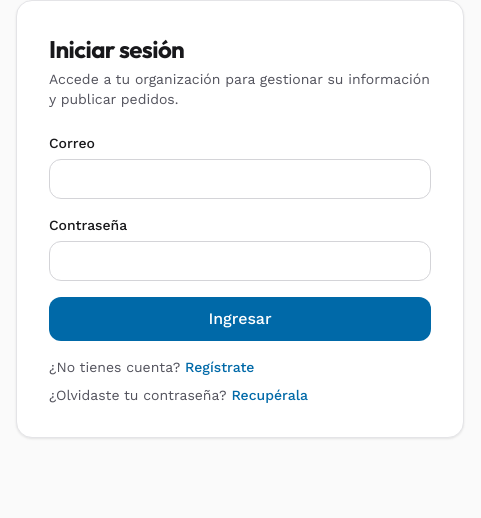
Test: LoginPage › informa el error de credenciales
The width and height of the screenshot is (481, 518).
Type "camila@correo.org" into the field labelled "Correo".
click(240, 179); type("camila@correo.org")  # box 49,159 -> 431,199
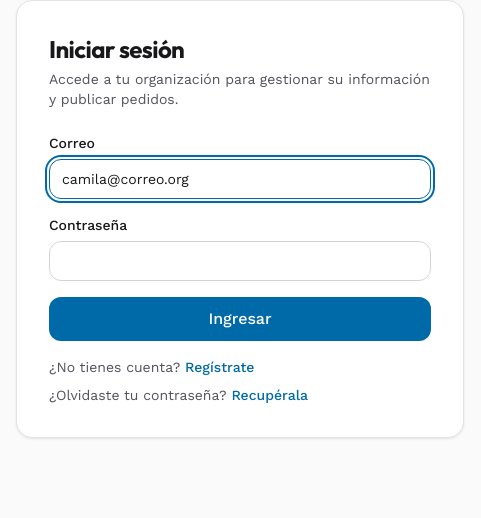
Type "contrasena-segura" into the password field labelled "Contraseña".
click(240, 261); type("contrasena-segura")  # box 49,241 -> 431,281
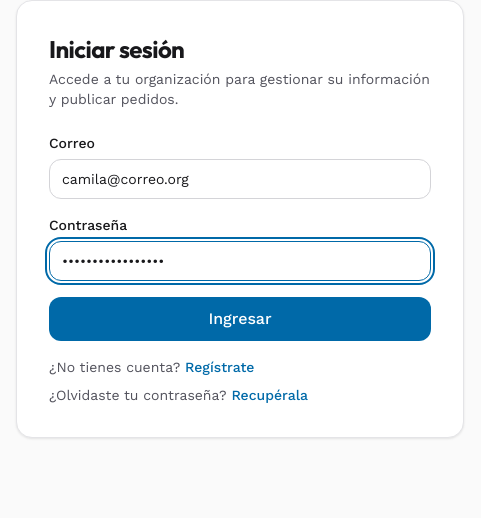
Click the button "Ingresar".
click(240, 319)  # box 49,297 -> 431,341
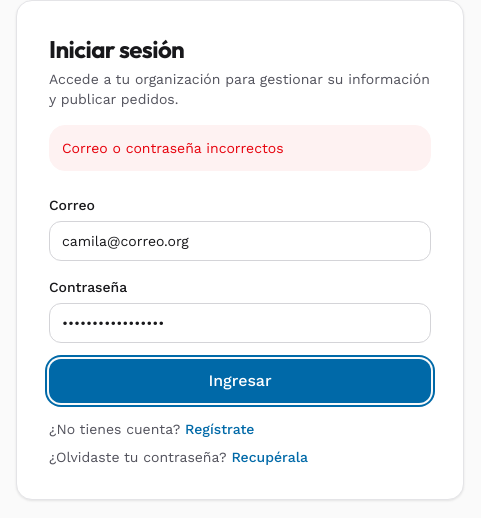
Now the message reads "Correo o contraseña incorrectos", box 62,140 -> 284,156
